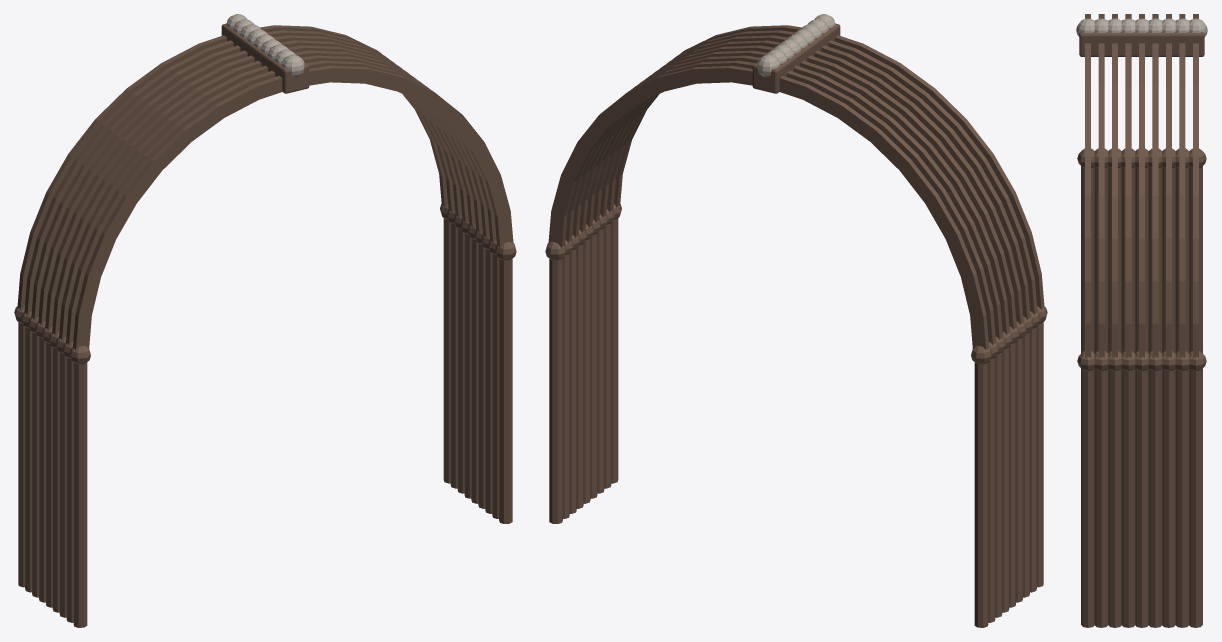
3 views of the same model, side by side, from view 1: azimuth 30°, elevation 25°; view 2: azimuth 150°, elevation 25°; view 3: azimuth 270°, elevation 25° (orthographic). The views are drawn at different scales.
Parts seen in each view (by area): view 1: boneArch; view 2: boneArch; view 3: boneArch.
Boxes of the visible parts, left/top/right/bottom form: boneArch: left=14, top=14, right=516, bottom=627; boneArch: left=545, top=14, right=1047, bottom=627; boneArch: left=1076, top=14, right=1207, bottom=627.
Bounding box in the file's own units: 2.32 × 2.58 × 0.61.
